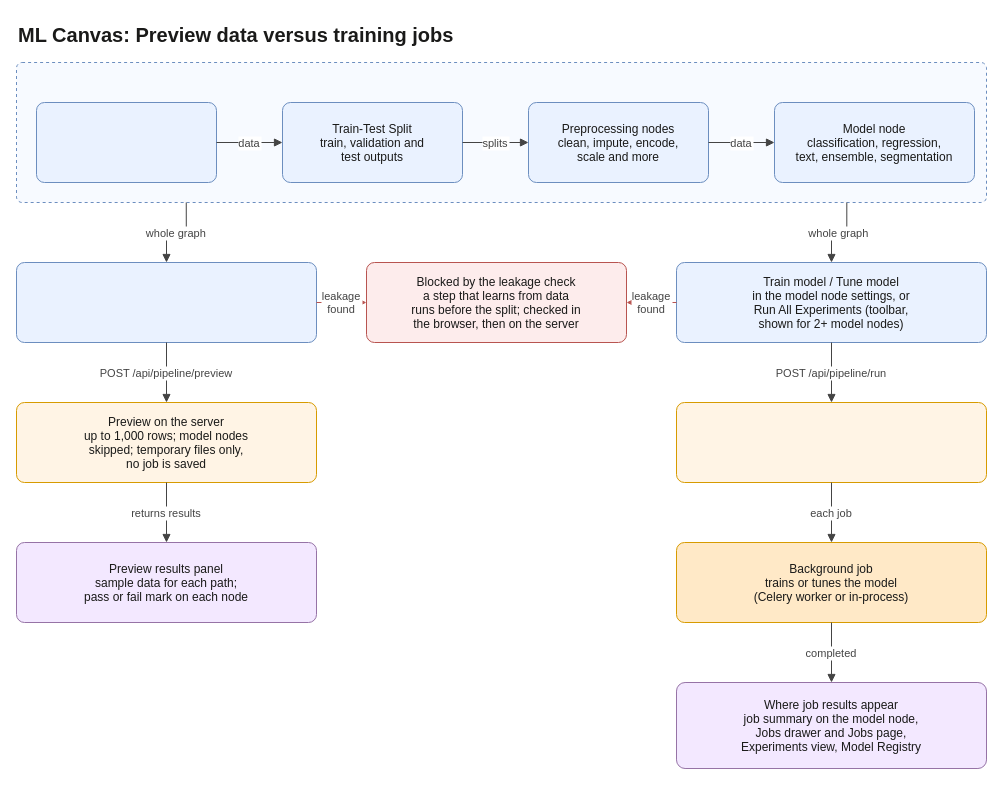
This 1003x785 diagram has some shape labels left out. The shapes that lost their labels are listed below. From the top down, each one's box as (x1, y1, x2, y2) in pixels, then its label:
(36, 102, 216, 182): Data source node picks a dataset from Data Sources
(16, 62, 986, 202): On the canvas: each edge carries the data its source node outputs
(16, 262, 316, 342): Preview data toolbar button or Ctrl+Enter
(676, 402, 986, 482): Run on the server one queued job per branch; see Multi-Path Pipelines
